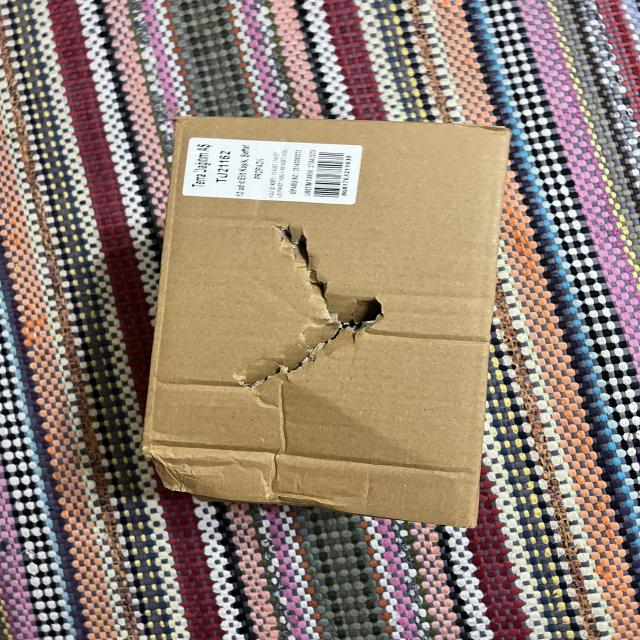damaged: (143, 116, 507, 528), (225, 214, 404, 405)
